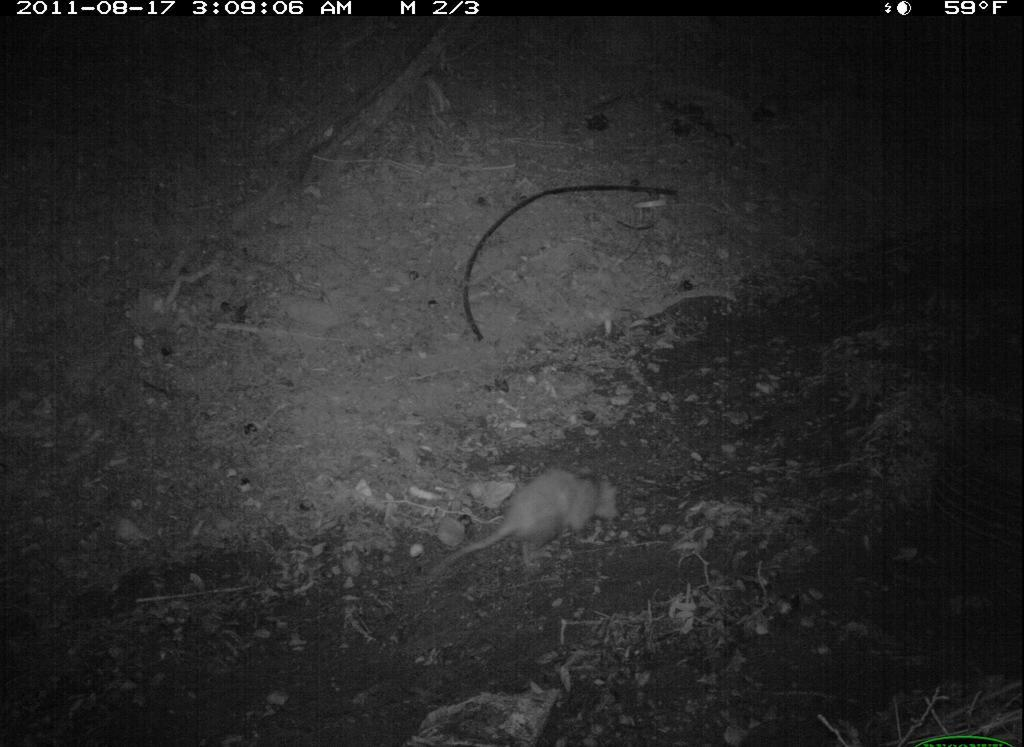opossum: (368, 457, 625, 598)
